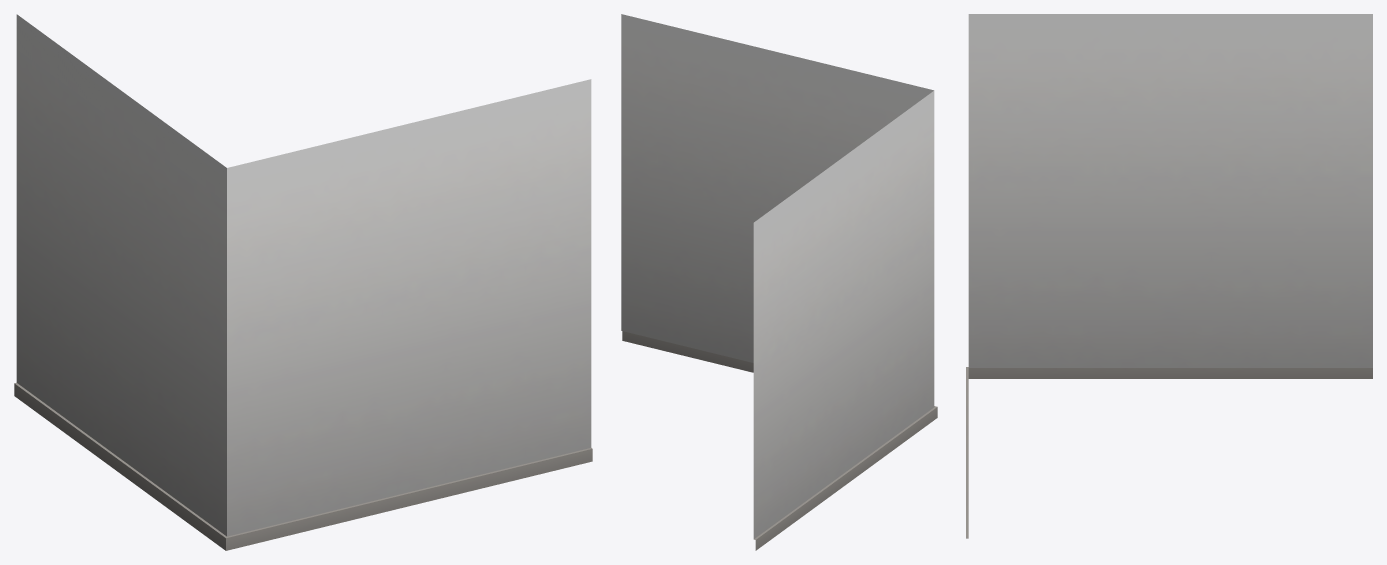
Rendered from Wall_3m_A_CornerOUT.fbx.
3 renders of one model, left to right at view 1: azimuth 30°, elevation 25°; view 2: azimuth 150°, elevation 25°; view 3: azimuth 270°, elevation 25°, orthographic. The views are drawn at different scales.
Visible parts, largest first — view 1: Wall_3m_A_CornerOUT; view 2: Wall_3m_A_CornerOUT; view 3: Wall_3m_A_CornerOUT.
Boxes of the visible parts, x1,y1,x2,y2 form: Wall_3m_A_CornerOUT: (14, 14, 592, 550); Wall_3m_A_CornerOUT: (621, 14, 937, 550); Wall_3m_A_CornerOUT: (966, 14, 1372, 538).
Size of the model in its own units: 302 by 300 by 302.
